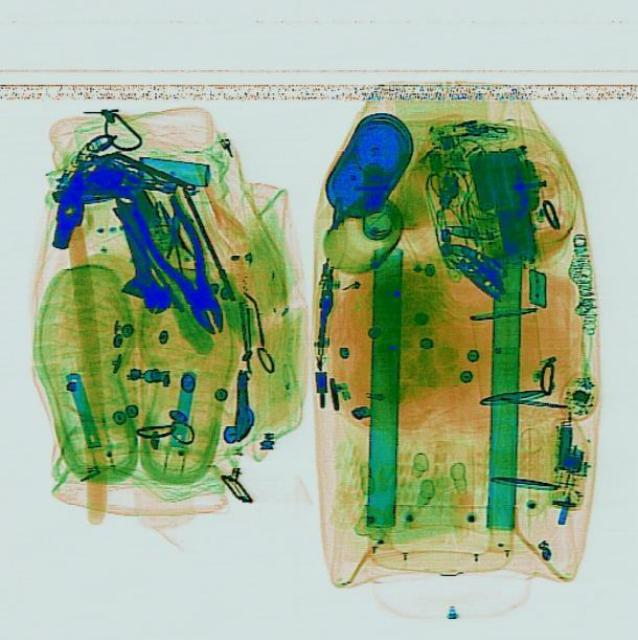Pliers: (125, 185, 242, 343)
Wrench: (99, 182, 176, 316)
